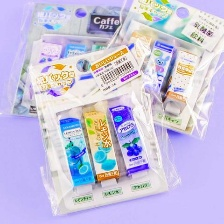carton: (80, 105, 122, 187), (106, 105, 152, 179), (54, 112, 96, 189), (160, 47, 204, 116), (139, 38, 178, 98), (124, 29, 151, 72), (36, 40, 65, 69), (62, 42, 90, 67)
